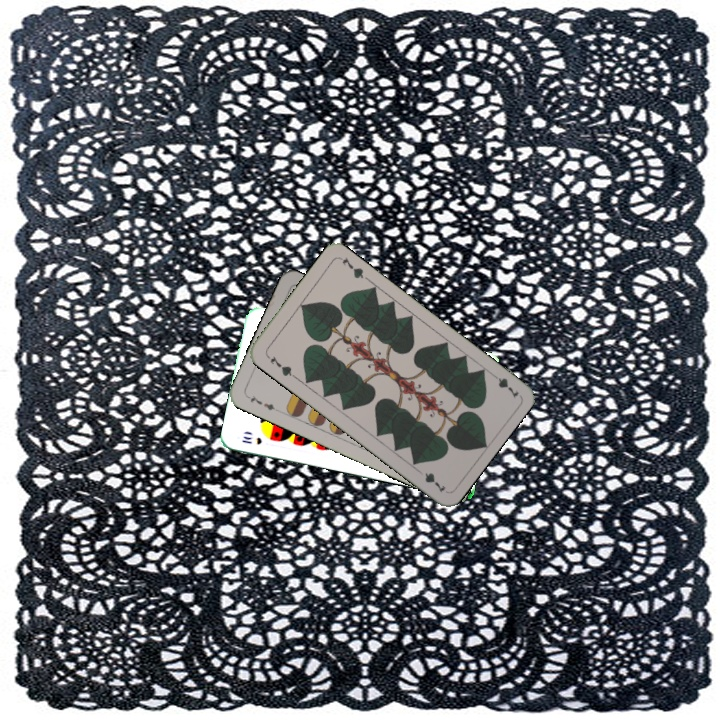E7: (243, 391, 281, 414)
G7: (486, 368, 521, 401), (262, 351, 297, 380)
S10: (238, 432, 264, 447)
